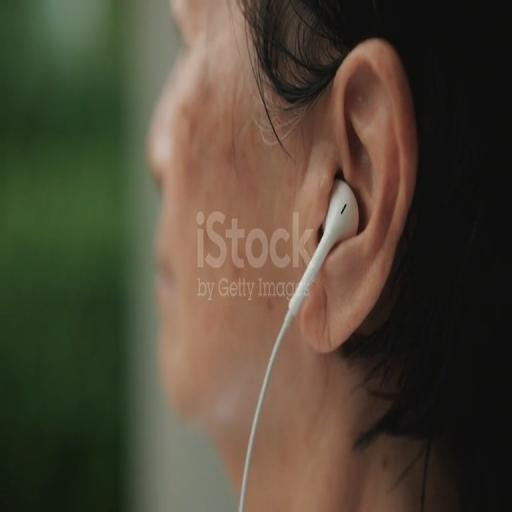earphone: (237, 183, 363, 512)
